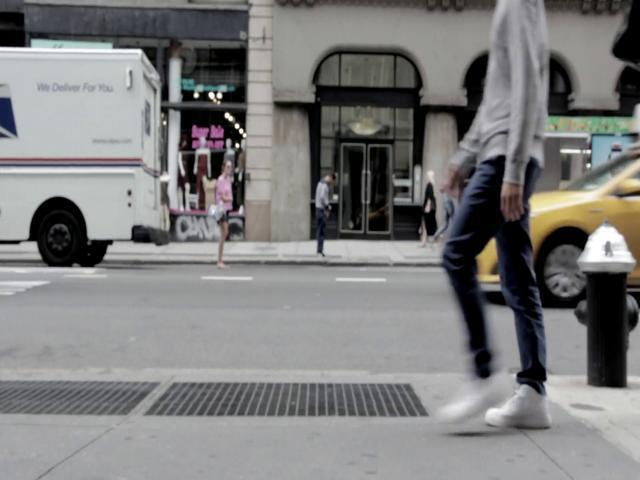shoe: (486, 386, 551, 428)
